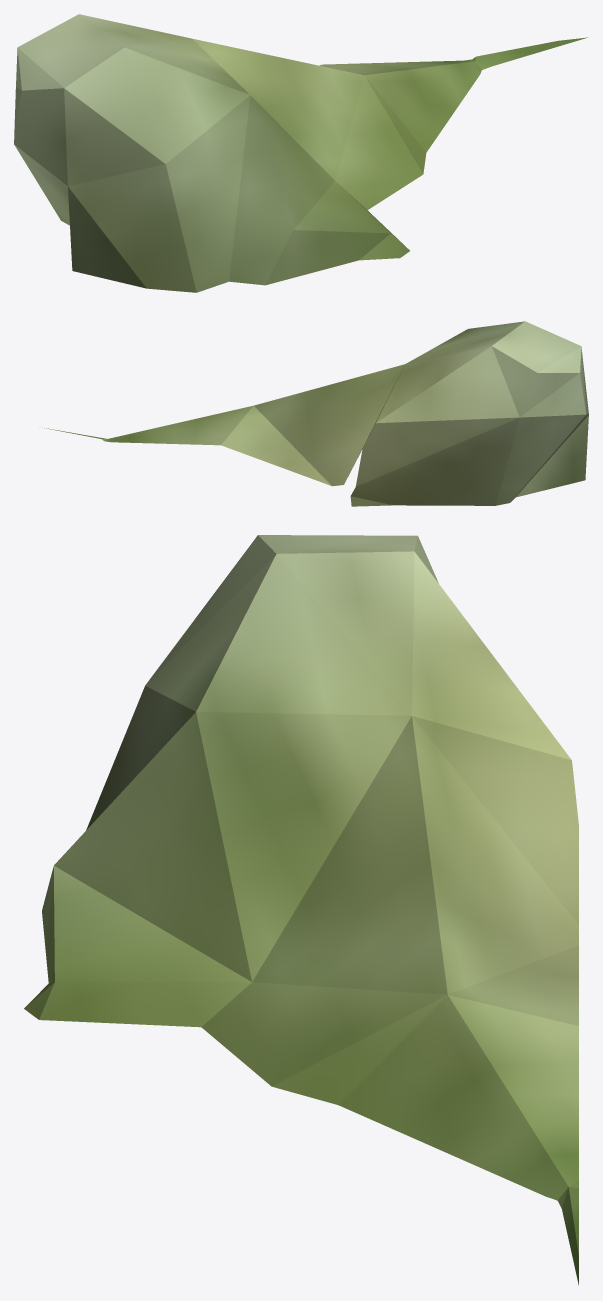
3 renders of one model, top to bottom at view 1: azimuth 30°, elevation 25°; view 2: azimuth 150°, elevation 25°; view 3: azimuth 270°, elevation 25°, orthographic. The views are drawn at different scales.
Bounding box in the file's own units: 0.2572 × 0.0747 × 0.1215.
Materials: 1 (1 with a texture image).
